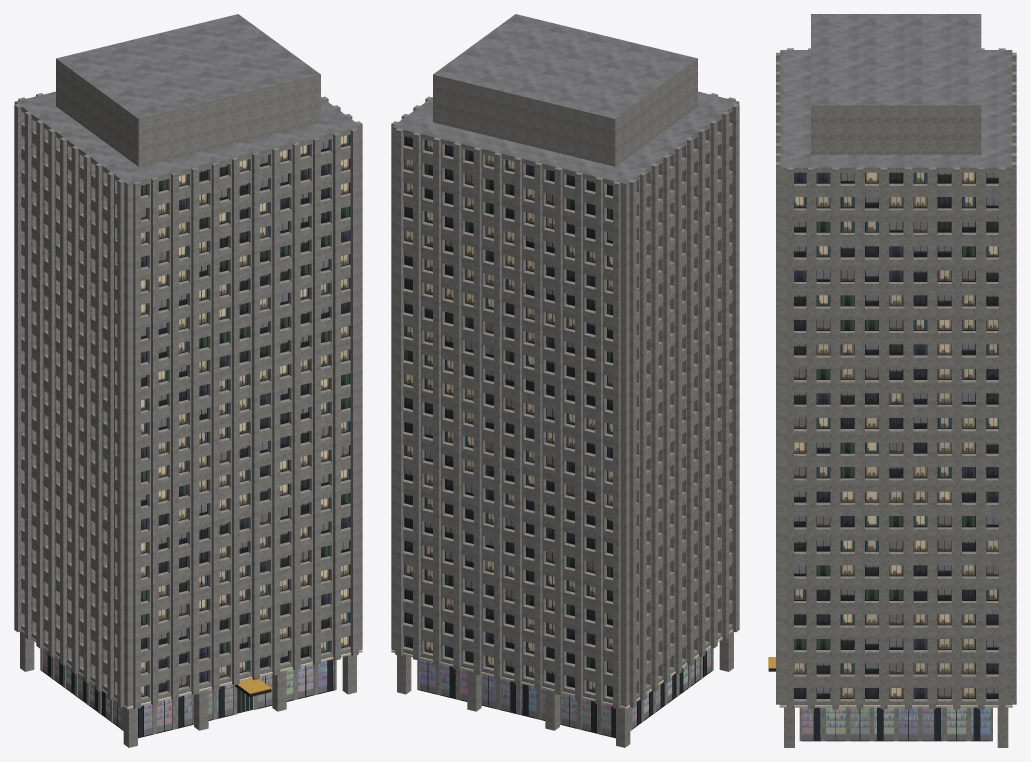
Rendered from hd19_brutalist_tower.gltf.
3 views of the same model, side by side, from view 1: azimuth 30°, elevation 25°; view 2: azimuth 150°, elevation 25°; view 3: azimuth 270°, elevation 25° (orthographic). The views are drawn at different scales.
Visible parts, largest first — view 1: hd19_brutalist_tower_LOD0; view 2: hd19_brutalist_tower_LOD0; view 3: hd19_brutalist_tower_LOD0.
Boxes of the visible parts, box(x1,y1,x2,y2) form: hd19_brutalist_tower_LOD0: box(14, 14, 362, 747); hd19_brutalist_tower_LOD0: box(391, 14, 739, 747); hd19_brutalist_tower_LOD0: box(768, 14, 1016, 747).
Size of what is drawn, in the model's own units: 37.1 by 90.02 by 32.07.
9 materials, 6 textured.
